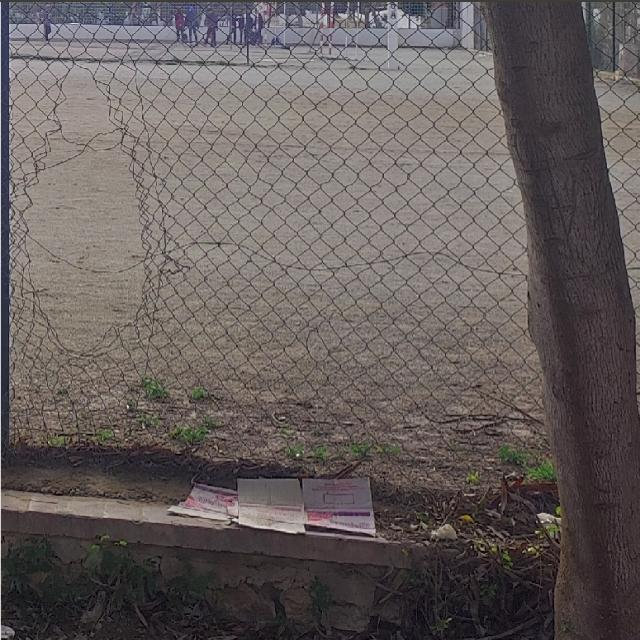fence line: (18, 80, 169, 358)
